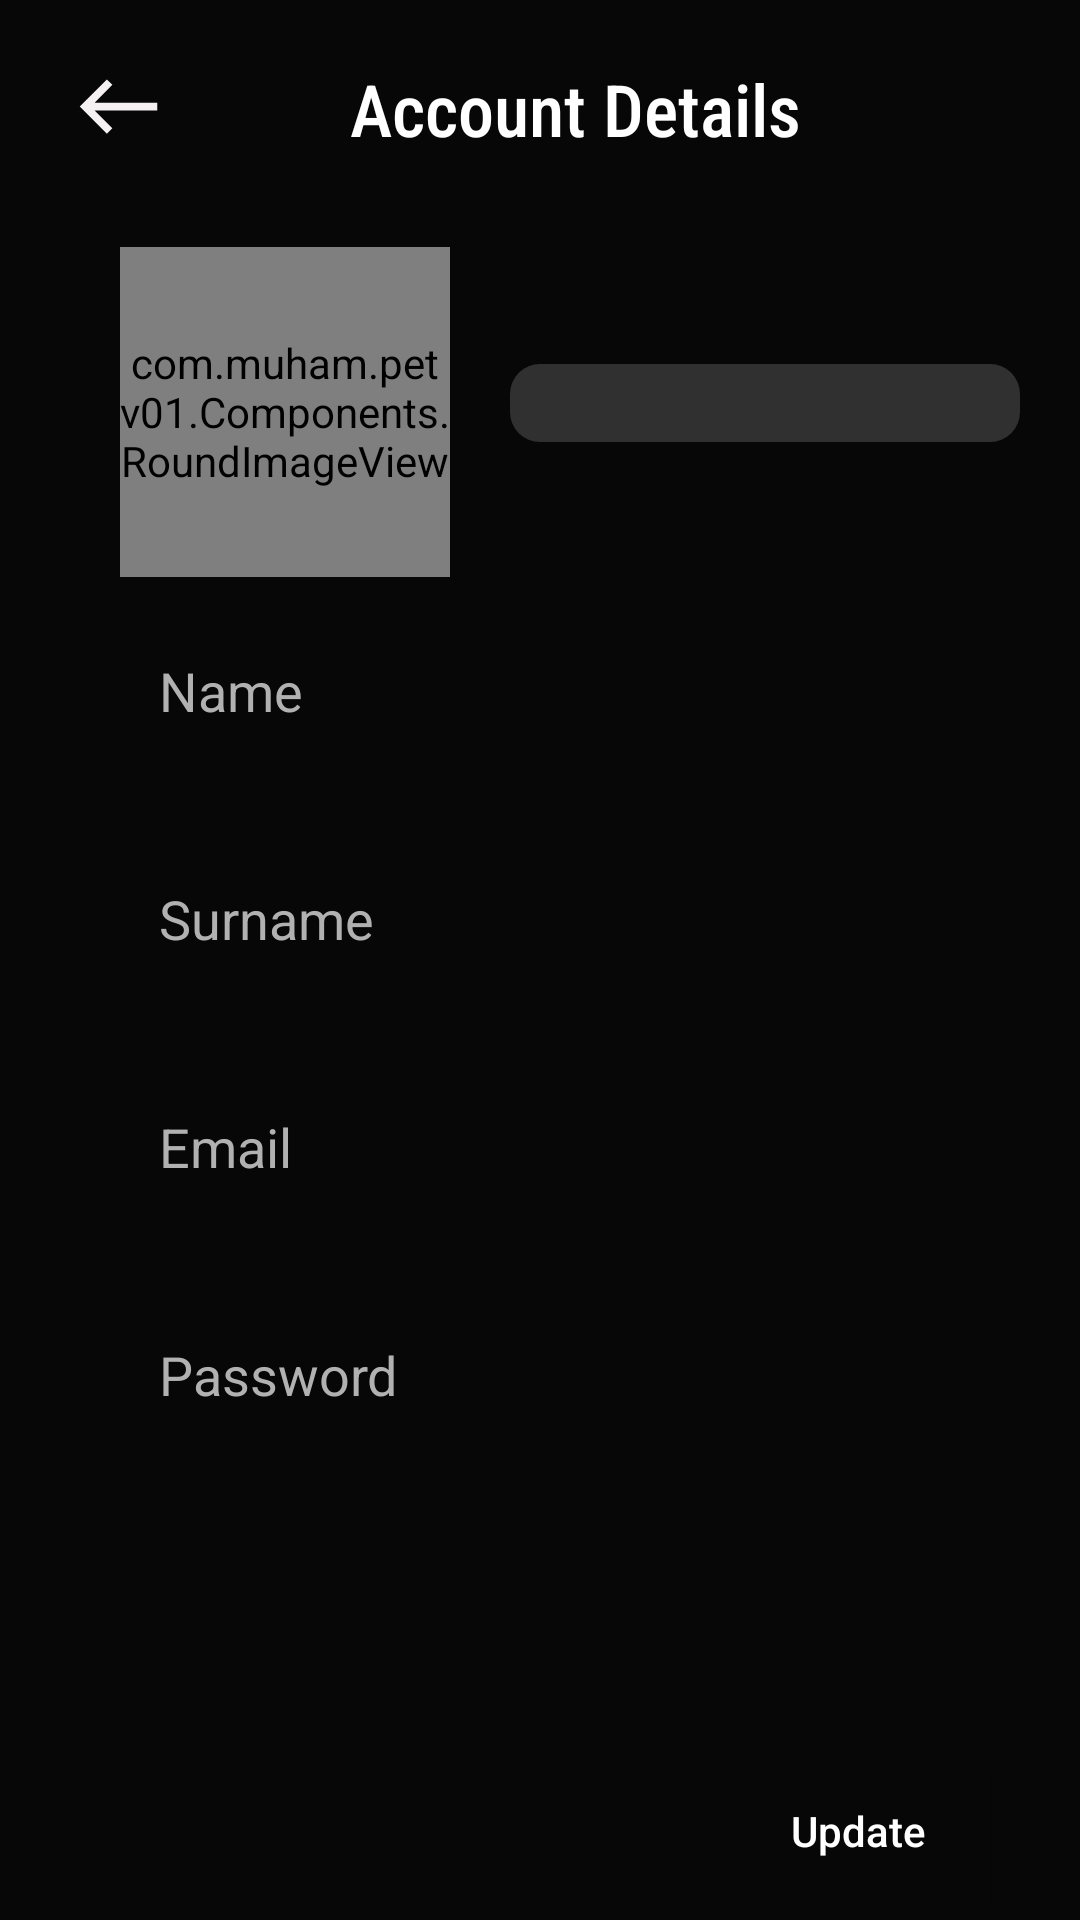

Icon click points for this 1080 × 1920 phone screenshot, format (x,y):
west: (119,106)
